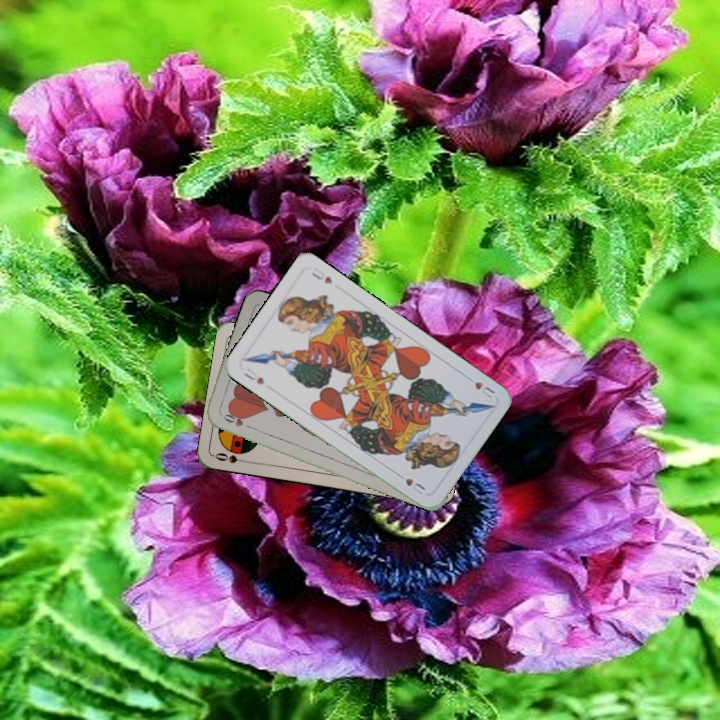HO: (217, 410, 256, 432)
HU: (240, 364, 267, 388), (470, 377, 497, 401)
SO: (211, 449, 251, 466)
